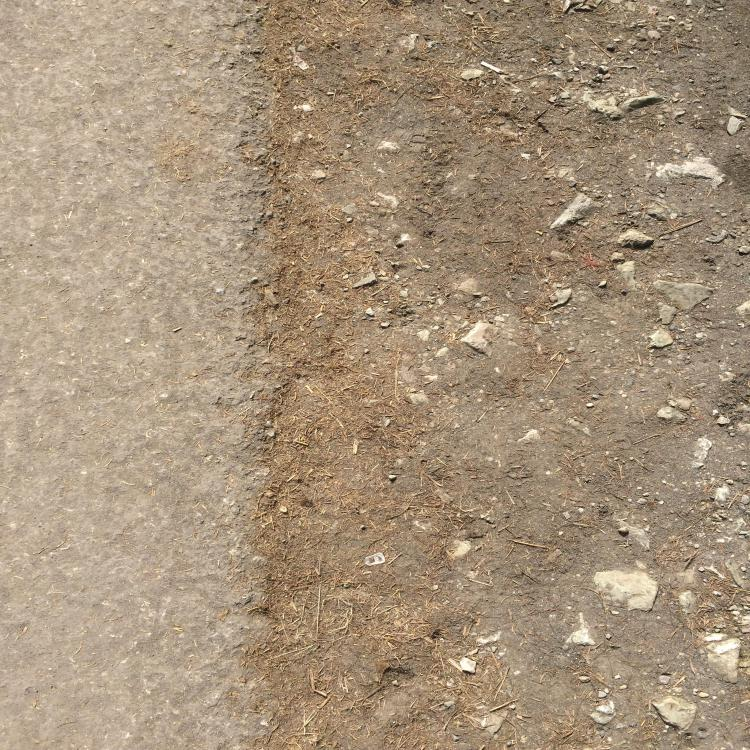Cigarette: (480, 61, 504, 73)
Pop tab: (364, 552, 386, 566)
